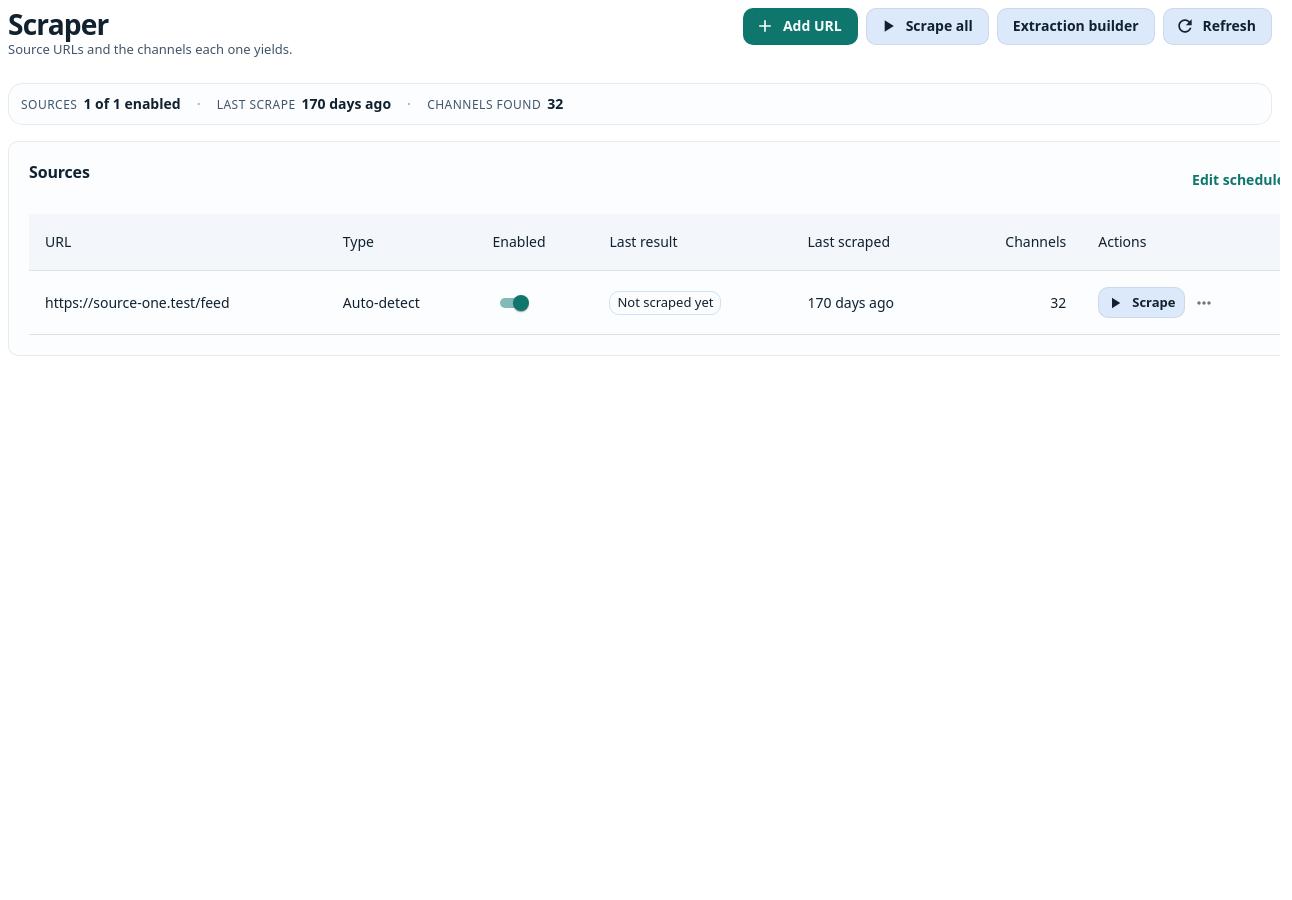
Test case: Scraper › enables and disables a source from the table switch
Click the checkbox named "Enable https://source-one.test/feed" at coordinates (520, 303), box top-left (512, 295), bottom-right (528, 311)
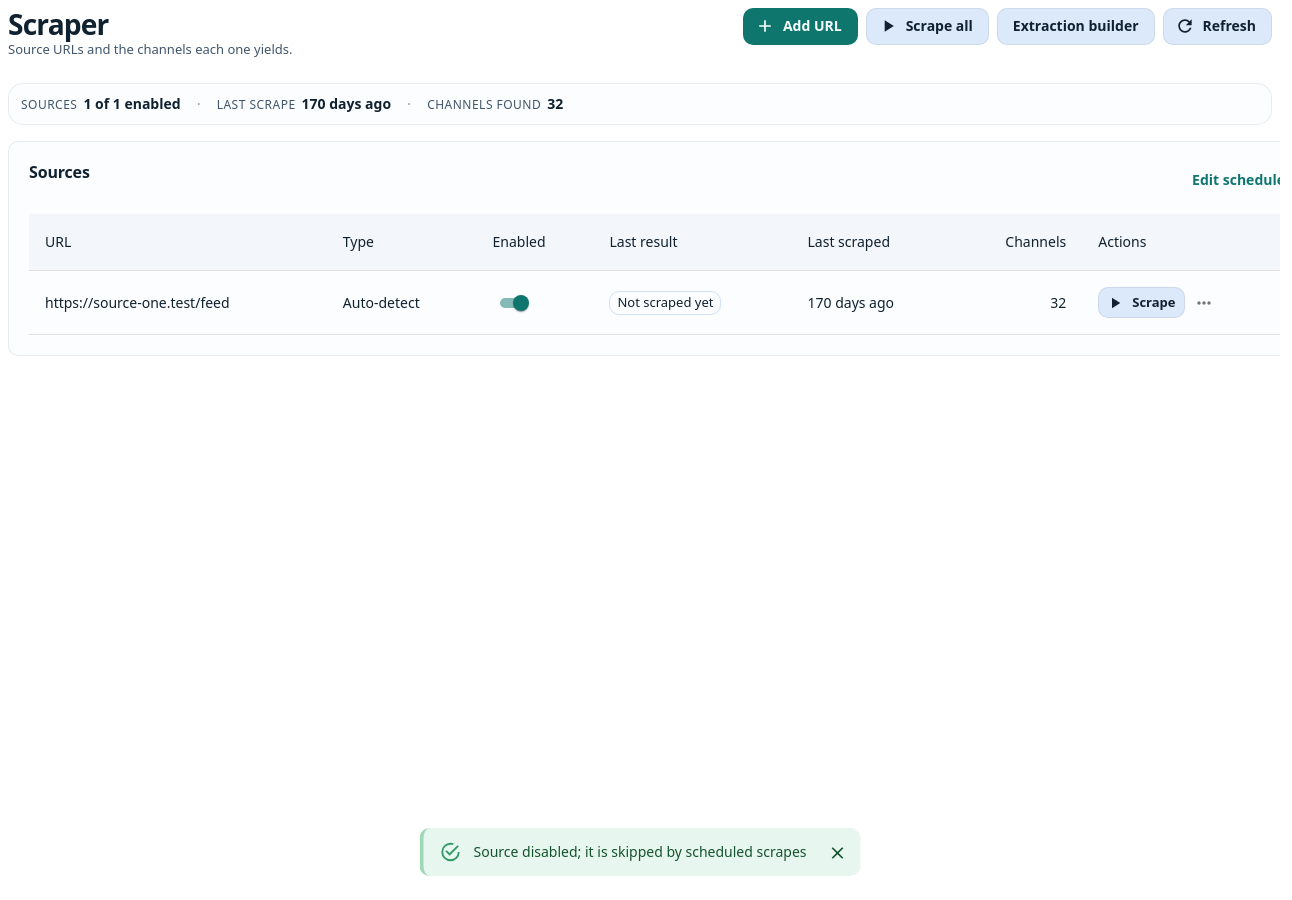
Expected: the text "Source disabled; it is skipped by scheduled scrapes" is shown, top-left (474, 842), bottom-right (806, 861)
